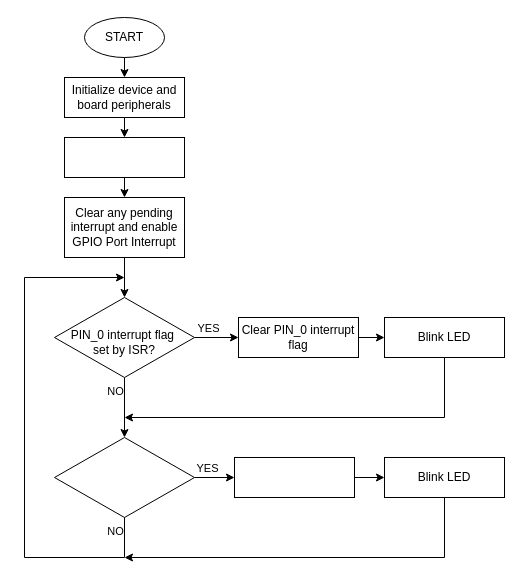
This 522x583 diagram has some shape labels left out. Here are the shapes that lost their labels. From the top down, the centre of each, then its label:
the point at 124,157: Initialize GPIO Port interrupt
the point at 124,477: PIN_1 interrupt flag set by ISR?
the point at 294,477: Clear PIN_1 interrupt flag
